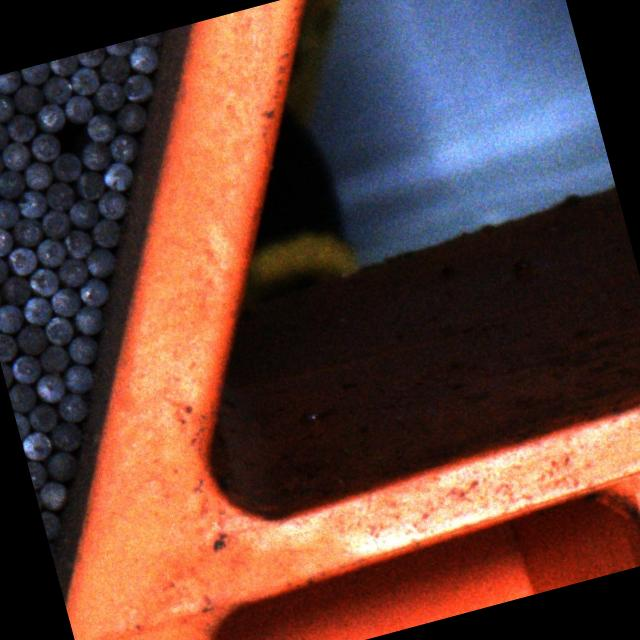tool: (90, 77, 127, 113), (111, 99, 148, 135), (13, 322, 48, 358), (101, 159, 136, 194), (43, 447, 78, 482), (60, 361, 95, 396), (72, 166, 106, 202), (54, 256, 90, 290), (77, 138, 111, 174), (26, 264, 60, 300), (39, 206, 73, 242), (55, 390, 89, 425), (41, 178, 76, 212), (47, 418, 82, 452), (13, 187, 48, 221), (93, 186, 128, 220), (72, 302, 106, 337), (48, 150, 82, 184), (32, 100, 66, 134), (46, 284, 80, 318), (2, 110, 36, 144), (75, 274, 109, 308), (11, 82, 45, 116), (28, 131, 62, 165), (9, 351, 43, 385), (121, 69, 155, 103), (32, 372, 66, 406), (106, 131, 140, 165), (84, 110, 118, 144), (38, 478, 72, 512), (64, 332, 98, 366), (18, 293, 52, 327), (3, 243, 37, 277), (8, 214, 42, 248), (65, 198, 99, 232), (35, 341, 69, 375), (66, 64, 100, 98), (126, 41, 160, 75), (96, 50, 130, 84), (39, 72, 74, 105), (32, 234, 65, 269), (42, 313, 75, 347), (19, 428, 52, 462), (60, 92, 94, 125), (82, 246, 115, 280), (60, 226, 93, 260), (89, 216, 122, 250), (26, 400, 59, 434), (0, 273, 32, 308), (22, 158, 54, 191), (0, 138, 30, 173), (7, 380, 36, 412), (0, 167, 26, 201), (0, 300, 24, 334), (19, 62, 51, 86), (40, 508, 63, 540), (48, 54, 78, 78), (0, 195, 20, 229), (27, 457, 48, 488), (76, 47, 106, 68), (0, 328, 18, 361), (103, 40, 134, 59), (13, 406, 31, 438), (0, 70, 22, 95), (133, 32, 163, 50), (0, 90, 15, 124), (0, 223, 13, 257), (0, 358, 14, 387), (0, 118, 10, 152), (0, 253, 7, 288)
